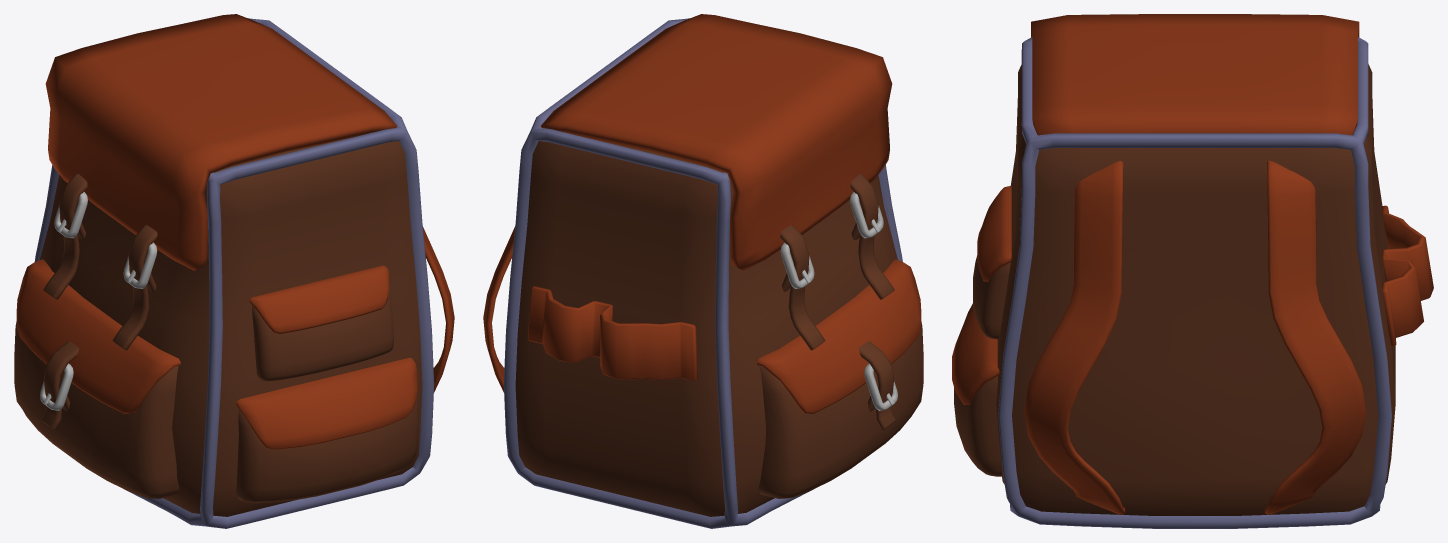
The model's file is backpack.fbx.
3 views of the same model, side by side, from view 1: azimuth 30°, elevation 25°; view 2: azimuth 150°, elevation 25°; view 3: azimuth 270°, elevation 25° (orthographic). The views are drawn at different scales.
Parts seen in each view (by area): view 1: backpack; view 2: backpack; view 3: backpack.
Boxes of the visible parts, x1,y1,x2,y2 form: backpack: (14,14,454,528); backpack: (483,14,923,528); backpack: (952,14,1433,528).
Bounding box in the file's own units: 40.28 × 40.29 × 43.8.
